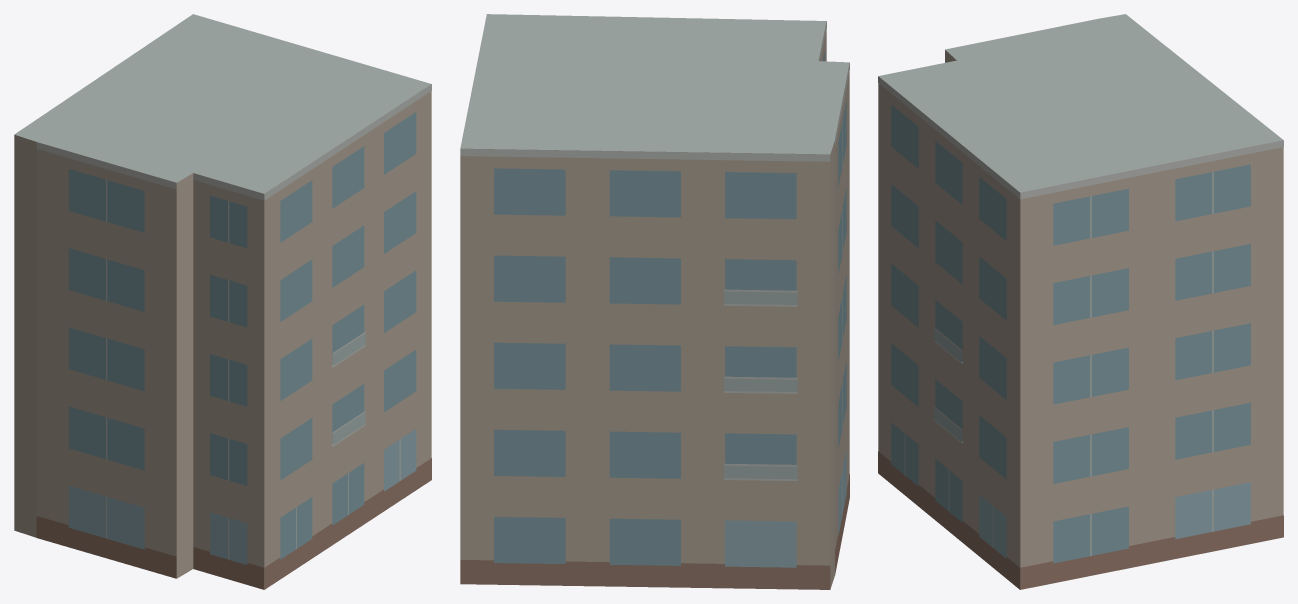
File: survey-upis-32950730.glb
3 views of the same model, side by side, from view 1: azimuth 30°, elevation 25°; view 2: azimuth 150°, elevation 25°; view 3: azimuth 270°, elevation 25° (orthographic). The views are drawn at different scales.
Parts seen in each view (by area): view 1: survey-upis-32950730.tmp; view 2: survey-upis-32950730.tmp; view 3: survey-upis-32950730.tmp.
Part boxes in pixels (x1=…): survey-upis-32950730.tmp: x1=14, y1=14, x2=431, y2=589; survey-upis-32950730.tmp: x1=460, y1=14, x2=849, y2=589; survey-upis-32950730.tmp: x1=878, y1=14, x2=1283, y2=589.
Size of the model in its own units: 13.7 by 14.2 by 13.15.
